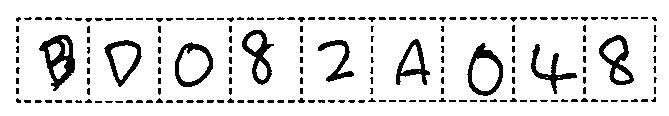0: (168, 39, 218, 90), (462, 41, 508, 96)
2: (314, 36, 360, 88)
4: (525, 39, 580, 96)
8: (238, 26, 282, 91), (594, 31, 641, 90)
A: (392, 34, 434, 92)
B: (34, 30, 80, 90)
D: (101, 36, 148, 90)
